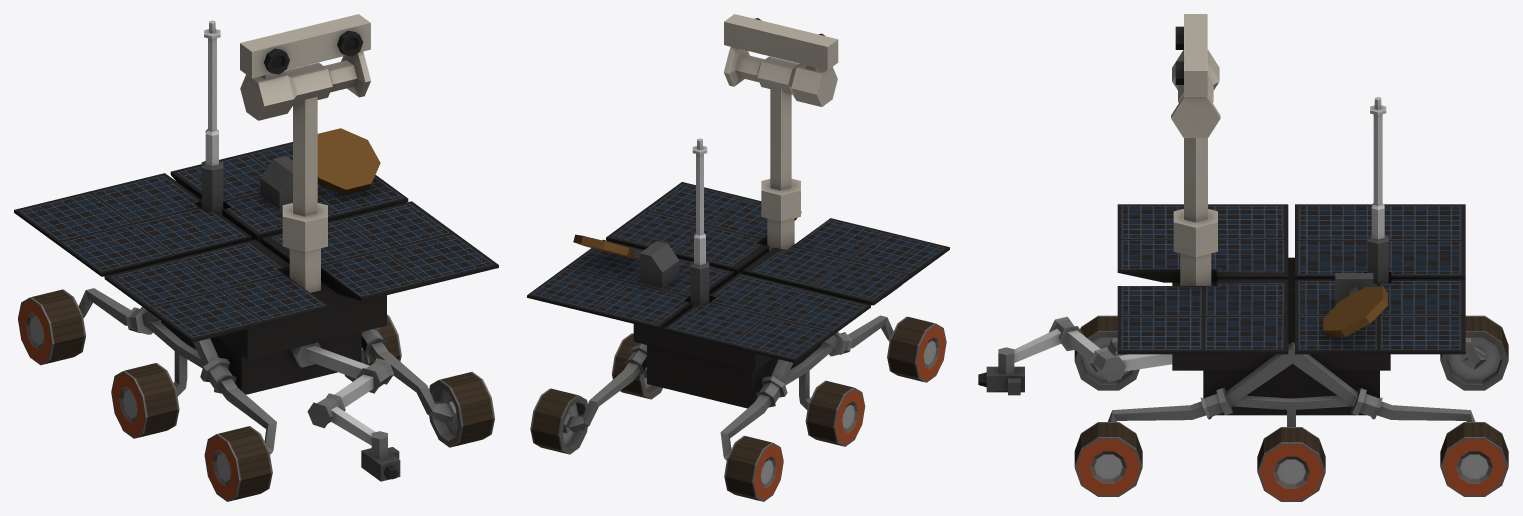
File: Space rover.glb
3 renders of one model, left to right at view 1: azimuth 30°, elevation 25°; view 2: azimuth 150°, elevation 25°; view 3: azimuth 270°, elevation 25°, orthographic. The views are drawn at different scales.
Parts seen in each view (by area): view 1: SpaceRover_Mesh; view 2: SpaceRover_Mesh; view 3: SpaceRover_Mesh.
Boxes of the visible parts, box(x1,y1,x2,y2) form: SpaceRover_Mesh: box(14, 14, 498, 501); SpaceRover_Mesh: box(527, 14, 949, 501); SpaceRover_Mesh: box(978, 14, 1508, 501).
Bounding box in the file's own units: 5.48 × 6.93 × 8.37.
1 material, 1 textured.
